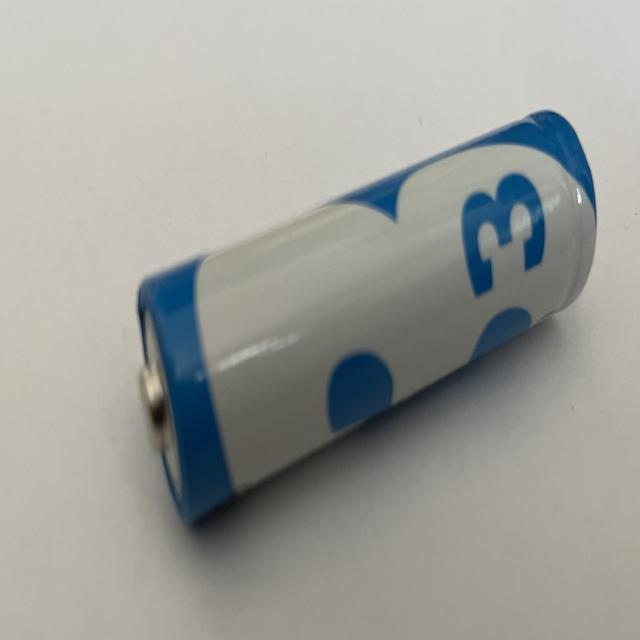hazardous waste: (136, 106, 598, 532)
